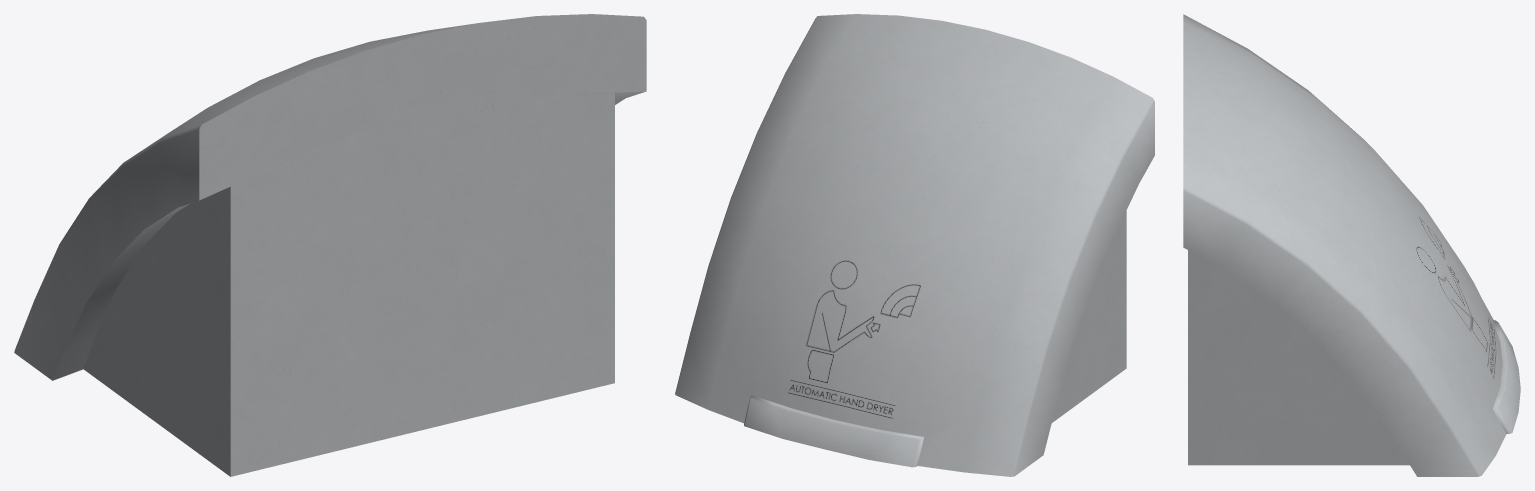
File: HandDryer01.FBX
The picture shows the model from 3 angles, left to right: view 1: azimuth 30°, elevation 25°; view 2: azimuth 150°, elevation 25°; view 3: azimuth 270°, elevation 25°; orthographic projection. The views are drawn at different scales.
Visible parts, largest first — view 1: HandDryer01; view 2: HandDryer01; view 3: HandDryer01.
Boxes of the visible parts, x1=… form: HandDryer01: x1=14, y1=14, x2=646, y2=476; HandDryer01: x1=675, y1=14, x2=1154, y2=476; HandDryer01: x1=1183, y1=14, x2=1520, y2=476.
Size of the model in its own units: 37.99 by 32.41 by 31.1.
